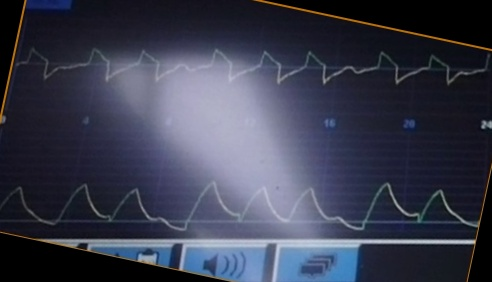Ineffective_effort Flow: (16, 42, 491, 94)
Ineffective_effort Volume: (3, 173, 476, 232)
